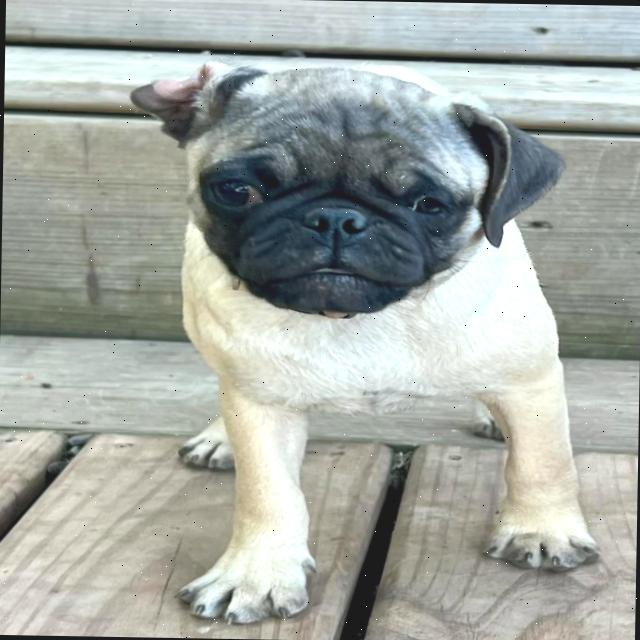pug_dog: (121, 51, 584, 336)
